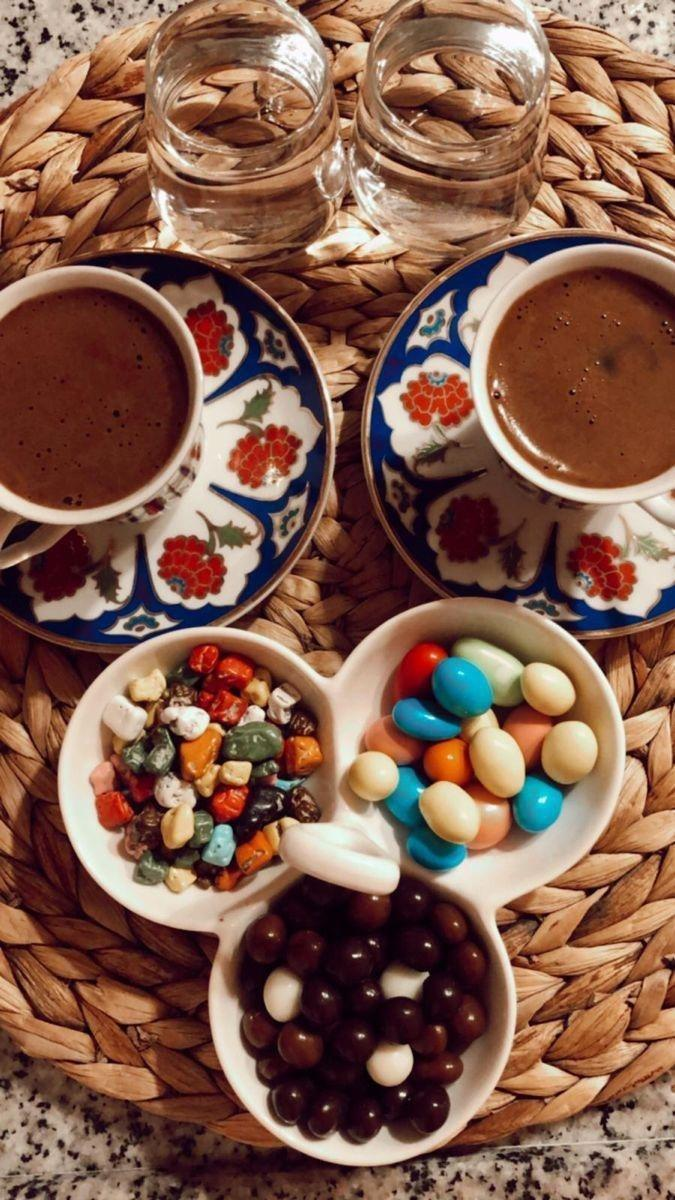cup-handle: (1, 263, 208, 572), (469, 240, 674, 533)
glass-normal: (140, 1, 347, 263), (351, 2, 552, 243)
